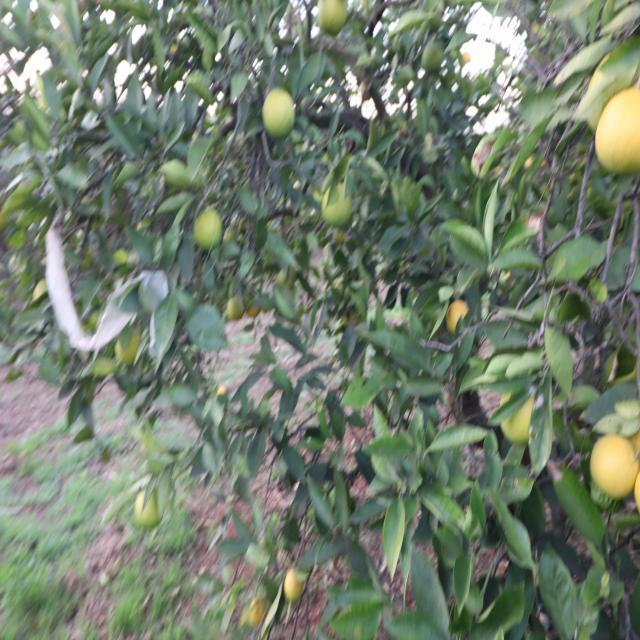Jeruk Belum Matang: (596, 88, 640, 172), (591, 433, 636, 498), (500, 391, 536, 442), (264, 89, 294, 141), (322, 182, 352, 225), (317, 0, 349, 36), (196, 211, 222, 250), (136, 489, 161, 528), (116, 328, 141, 364), (284, 571, 302, 603), (422, 42, 442, 70), (228, 295, 243, 319)
